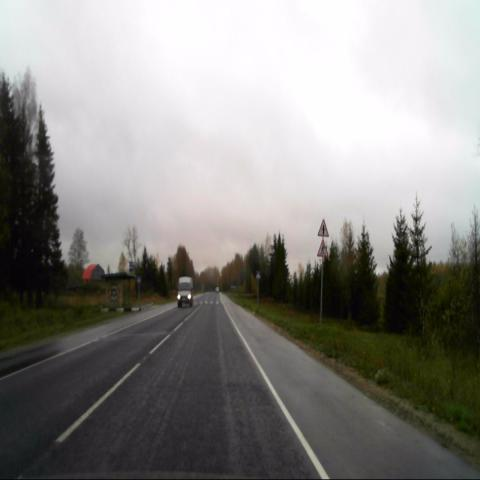2_3: (317, 218, 328, 237)
